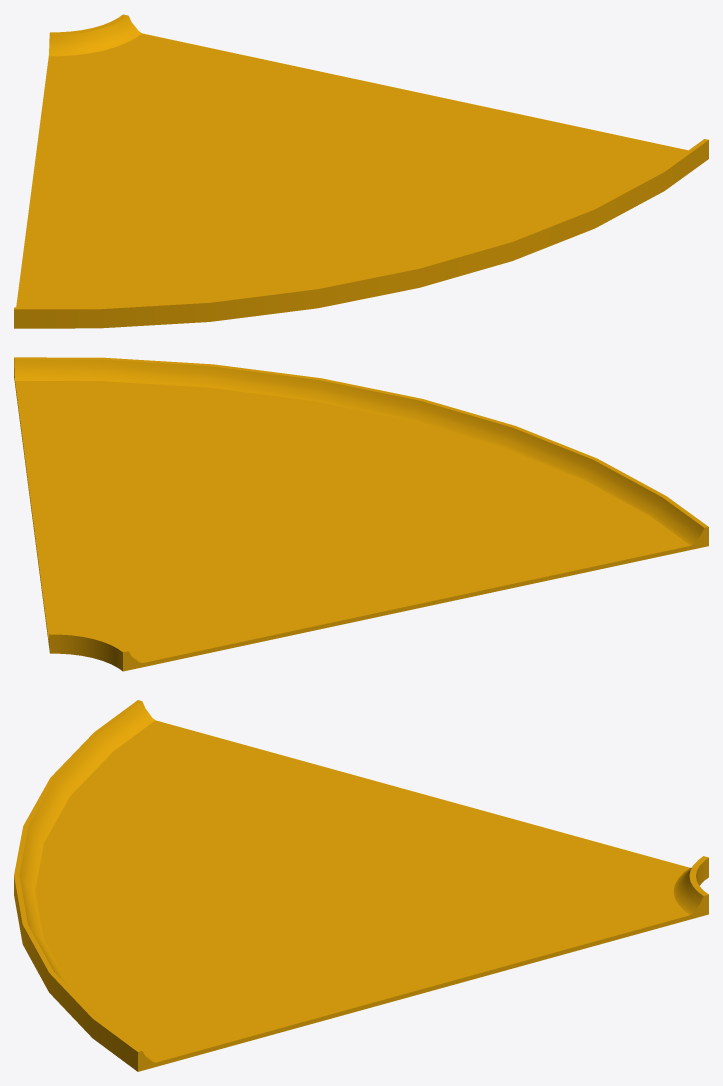
File: 14mTrack_Blockout_IregularSmallAngle3.fbx
3 renders of one model, top to bottom at view 1: azimuth 30°, elevation 25°; view 2: azimuth 150°, elevation 25°; view 3: azimuth 270°, elevation 25°, orthographic. The views are drawn at different scales.
Parts seen in each view (by area): view 1: pCube48; view 2: pCube48; view 3: pCube48.
Boxes of the visible parts, <box> form: pCube48: <box>14,14,708,328</box>; pCube48: <box>14,357,708,671</box>; pCube48: <box>14,700,708,1071</box>.
Bounding box in the file's own units: 1710 × 45 × 1427.
